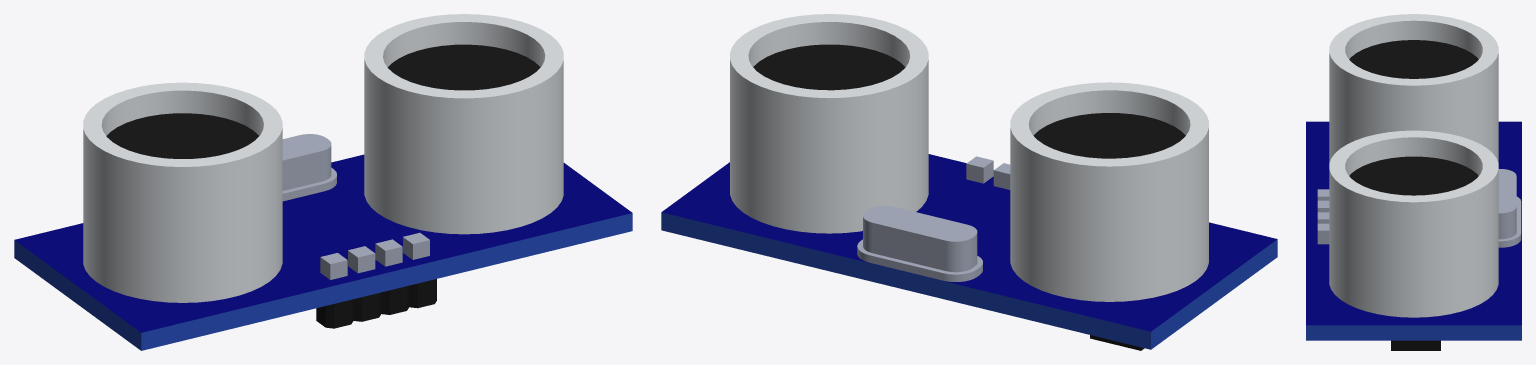
The model's file is sonar_hc-sr04.dae.
3 views of the same model, side by side, from view 1: azimuth 30°, elevation 25°; view 2: azimuth 150°, elevation 25°; view 3: azimuth 270°, elevation 25° (orthographic). The views are drawn at different scales.
Parts seen in each view (by area): view 1: _3DGeom_96, _3DGeom_97, _3DGeom_95, _3DGeom_99, _3DGeom_98; view 2: _3DGeom_96, _3DGeom_97, _3DGeom_99, _3DGeom_95, _3DGeom_98; view 3: _3DGeom_96, _3DGeom_97, _3DGeom_95, _3DGeom_99, _3DGeom_98.
Part boxes in pixels (x1=…): _3DGeom_96: x1=83, y1=14, x2=563, y2=302; _3DGeom_97: x1=14, y1=154, x2=632, y2=332; _3DGeom_95: x1=106, y1=44, x2=540, y2=328; _3DGeom_99: x1=14, y1=213, x2=632, y2=350; _3DGeom_98: x1=282, y1=134, x2=429, y2=279; _3DGeom_96: x1=730, y1=14, x2=1208, y2=301; _3DGeom_97: x1=662, y1=154, x2=1277, y2=331; _3DGeom_99: x1=661, y1=212, x2=1277, y2=349; _3DGeom_95: x1=753, y1=44, x2=1185, y2=350; _3DGeom_98: x1=857, y1=156, x2=1010, y2=281; _3DGeom_96: x1=1329, y1=14, x2=1498, y2=317; _3DGeom_97: x1=1306, y1=121, x2=1521, y2=325; _3DGeom_95: x1=1349, y1=40, x2=1478, y2=350; _3DGeom_99: x1=1306, y1=325, x2=1521, y2=340; _3DGeom_98: x1=1317, y1=169, x2=1521, y2=247.
Bounding box in the file's own units: 0.0454 × 0.0203 × 0.016.
